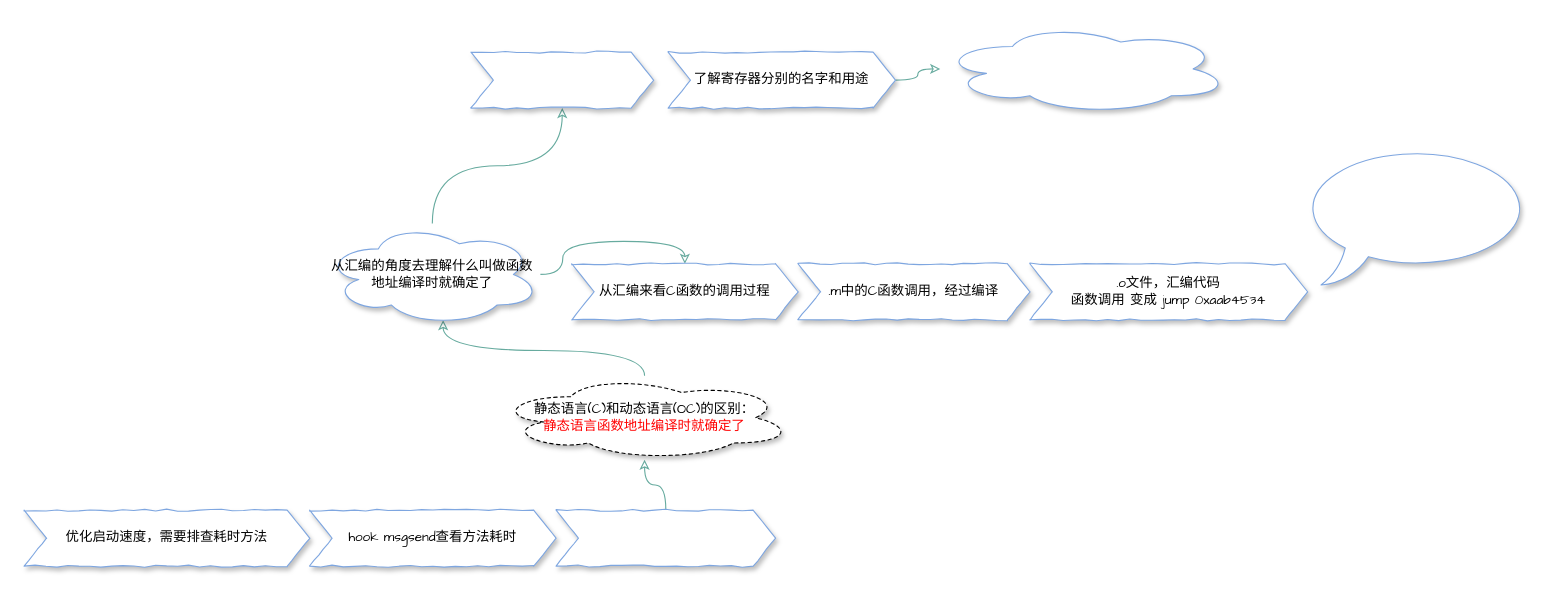
This 1559x594 diagram has some shape labels left out. Each missing label, with the centre of its shape:
"与OC中一般Hook的区别是：msgsend是一个C函数" belongs at point 666,539.
"了解汇编语言" belongs at point 562,81.
"到这里可以看到 编译之后的文件中，当调用C函数时， 就直接跳转了" belongs at point 1417,217.
"去了解计算机CPU的结构" belongs at point 1085,70.
